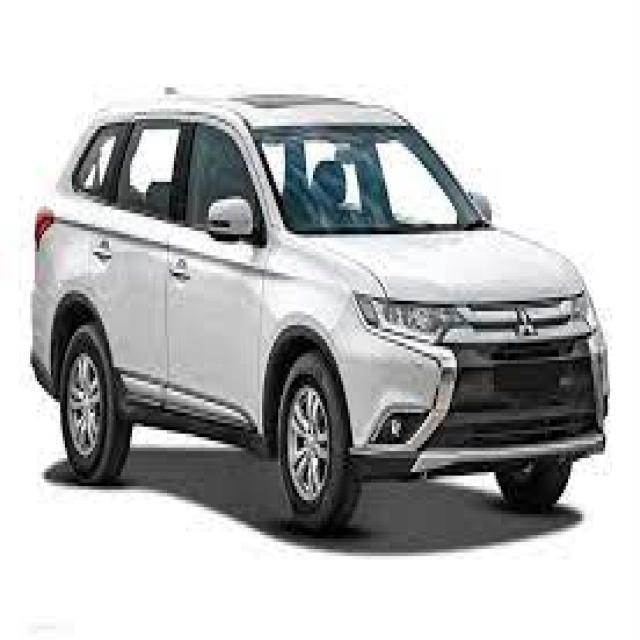light_vehicle: (28, 91, 607, 535)
